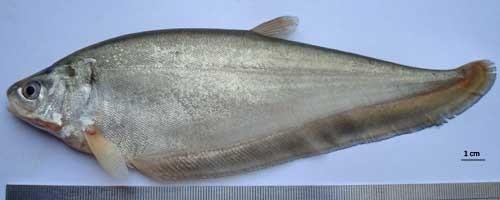Knifefish: (6, 14, 499, 183)
